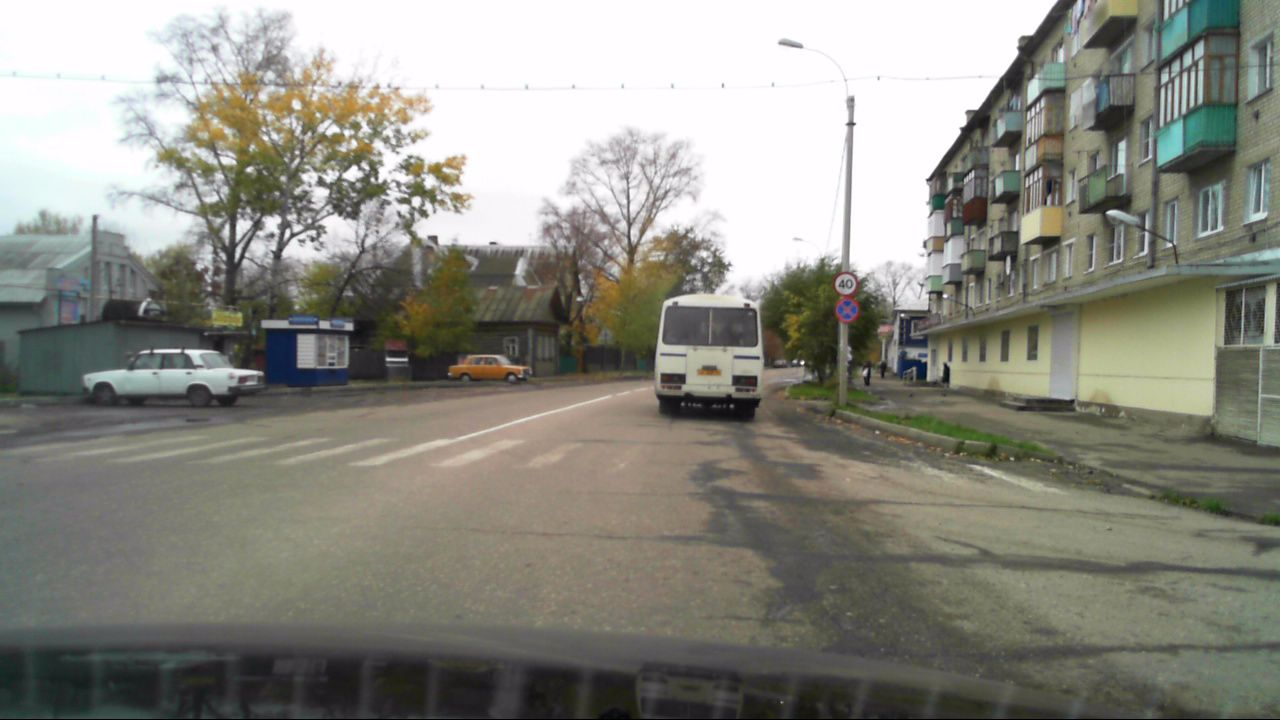No Parking: (834, 298, 860, 323)
speed_warning_40: (832, 271, 858, 297)
